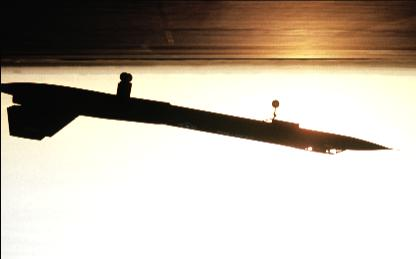Rafale: (1, 72, 406, 153)
